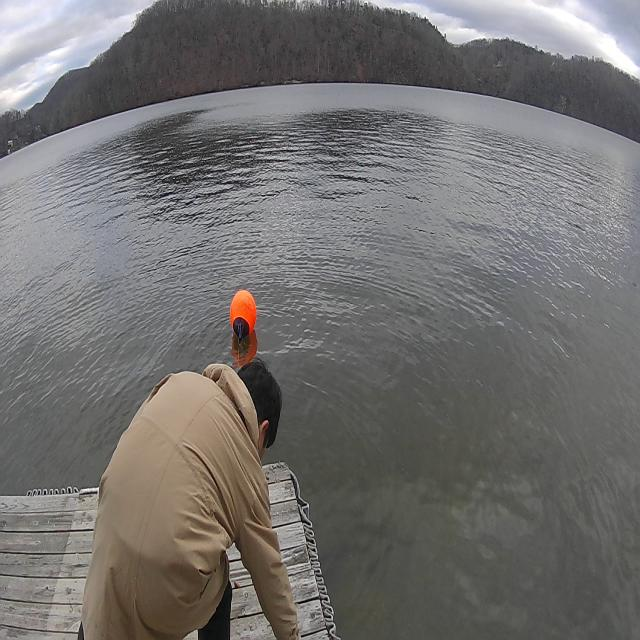Buoy: (228, 284, 258, 348)
